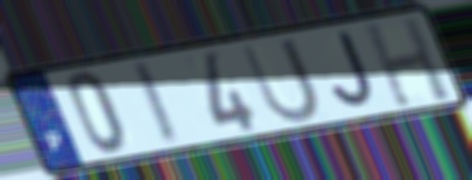0: (67, 68, 135, 157)
4: (202, 47, 259, 134)
H: (359, 14, 455, 111)
I: (127, 57, 184, 148)
J: (329, 28, 379, 111)
U: (236, 35, 323, 127)
